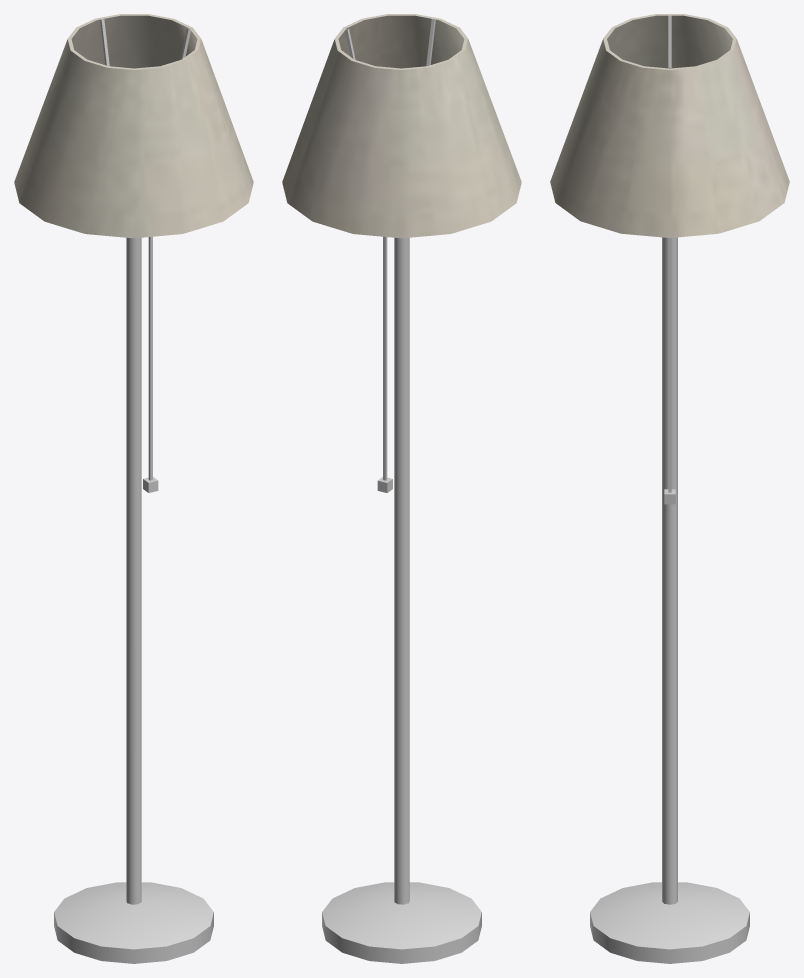
File: TableLamp03.fbx
3 renders of one model, left to right at view 1: azimuth 30°, elevation 25°; view 2: azimuth 150°, elevation 25°; view 3: azimuth 270°, elevation 25°, orthographic.
Parts seen in each view (by area): view 1: Tulipa, Soporte, Tulipa3, Tirador; view 2: Tulipa, Soporte, Tulipa3, Tirador; view 3: Tulipa, Soporte, Tulipa3, Tirador.
Part boxes in pixels (x1=…): Tulipa: x1=14, y1=14, x2=253, y2=238; Soporte: x1=54, y1=19, x2=213, y2=963; Tulipa3: x1=14, y1=14, x2=252, y2=237; Tirador: x1=143, y1=236, x2=158, y2=492; Tulipa: x1=282, y1=14, x2=521, y2=238; Soporte: x1=322, y1=19, x2=481, y2=963; Tulipa3: x1=283, y1=14, x2=520, y2=237; Tirador: x1=377, y1=236, x2=392, y2=492; Tulipa: x1=550, y1=14, x2=789, y2=237; Soporte: x1=590, y1=15, x2=749, y2=963; Tulipa3: x1=551, y1=14, x2=788, y2=237; Tirador: x1=664, y1=238, x2=675, y2=504.
Size of the model in its own units: 0.1484 by 0.61 by 0.1492.
